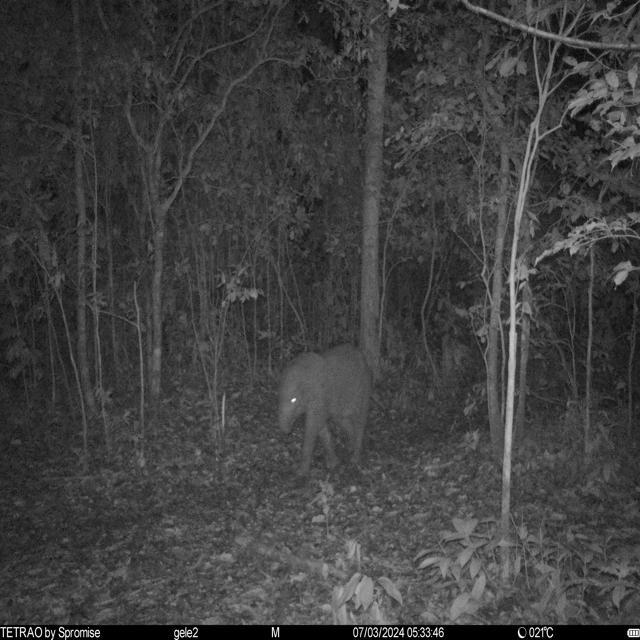calf: (277, 344, 373, 478)
